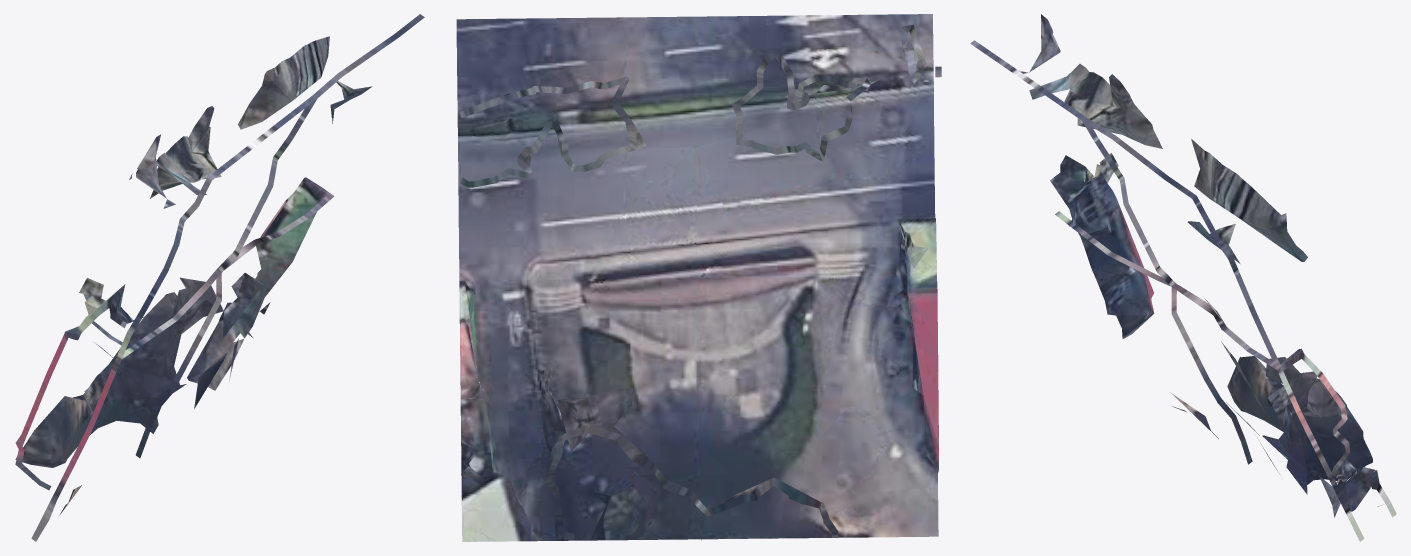
3 views of the same model, side by side, from view 1: azimuth 30°, elevation 25°; view 2: azimuth 150°, elevation 25°; view 3: azimuth 270°, elevation 25° (orthographic). The views are drawn at different scales.
Bounding box in the file's own units: 38.78 × 36.53 × 34.57.
Materials: 1 (1 with a texture image).
